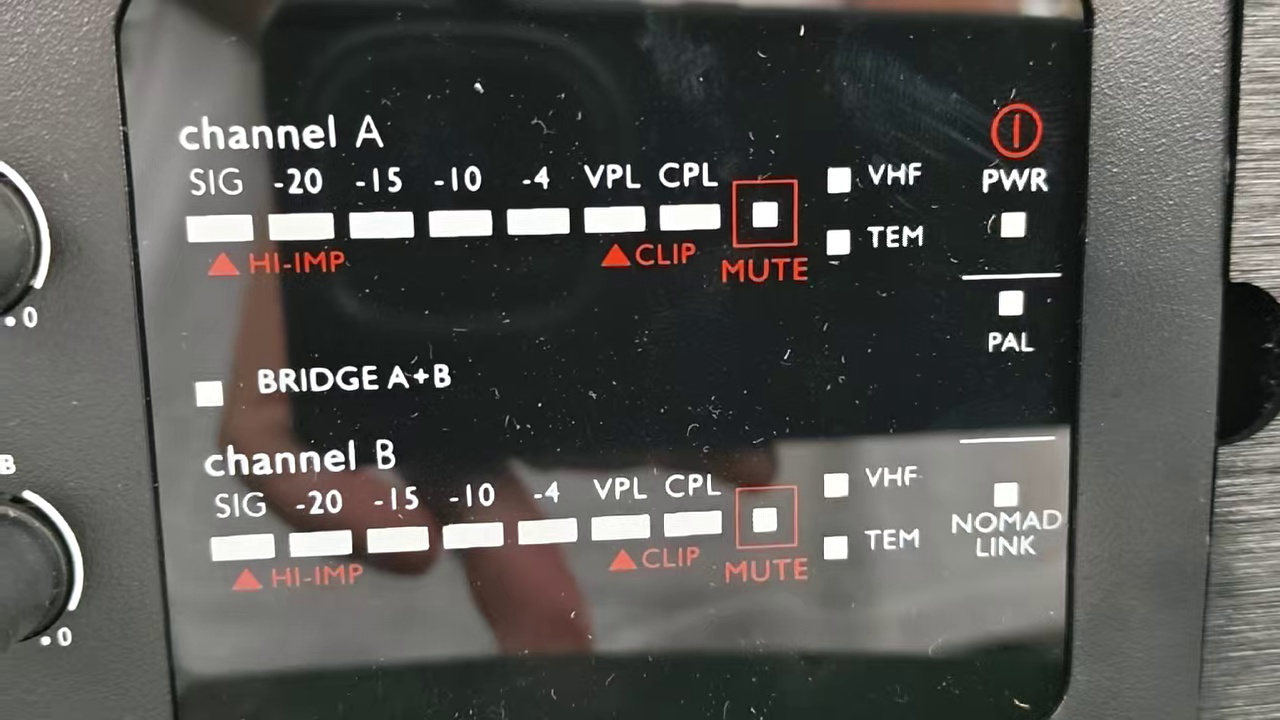FP_CPL: (654, 156, 725, 242), (652, 467, 725, 549)
FP_PWR: (970, 98, 1052, 254), (973, 157, 1052, 243)
FP_SIG_area: (200, 426, 929, 598), (183, 152, 921, 297)
FP_VPL: (577, 155, 653, 242), (586, 468, 660, 549)
